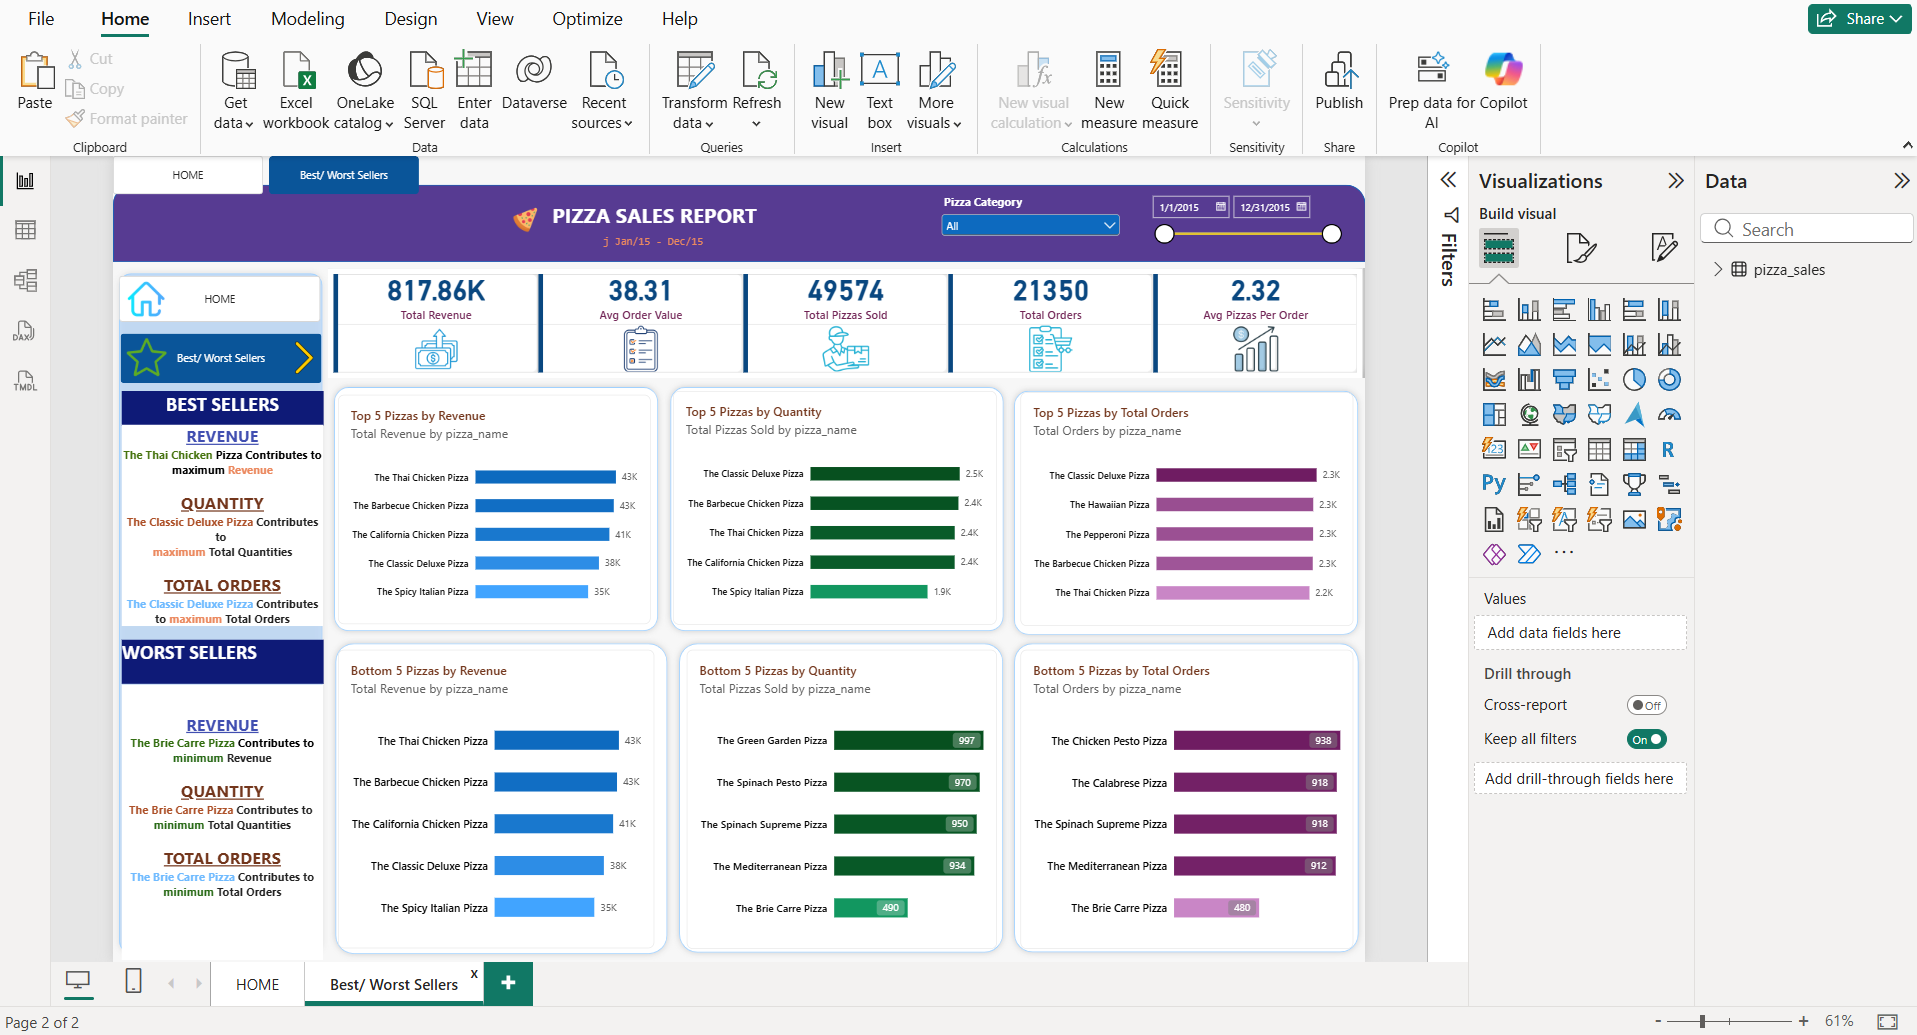

This screenshot's page, from the dashboard's own definition file:
{"tool":"powerbi","page":{"name":"Best/ Worst Sellers","canvas":[1636,1054],"ordinal":1},"visuals":[{"type":"shape","box":[0,145.1,282,905.2],"z":0},{"type":"cardVisual","fields":{"Data":["pizza_sales.Total Revenue","pizza_sales.Avg Order Value","pizza_sales.Total Pizzas Sold","pizza_sales.Total Orders","pizza_sales.Avg Pizzas Per Order"]},"box":[280.8,146.5,1357,143],"z":1000},{"type":"shape","box":[0,38.4,1637.8,101.2],"z":2000},{"type":"textbox","box":[570,59.3,275.4,47.1],"z":3000},{"type":"textbox","box":[1610,140,300,300],"z":4000},{"type":"textbox","box":[641.5,101.1,132.9,40],"z":5000},{"type":"image","box":[509,66.2,61.4,32.9],"z":6000},{"type":"shape","box":[280.8,294.8,439.5,334.9],"z":7000},{"type":"textbox","box":[11.5,306.7,263.8,44.5],"z":8000},{"type":"textbox","box":[11.4,351.4,263.2,263.2],"z":9000},{"type":"textbox","box":[11.4,691.4,263.2,359.6],"z":10000},{"type":"textbox","box":[11.4,632.6,263.8,57.7],"z":11000},{"type":"slicer","fields":{"Values":["pizza_sales.pizza_category"]},"box":[1078.9,49,242.3,80.2],"z":12000},{"type":"slicer","fields":{"Values":["pizza_sales.order_date"]},"box":[1351.8,47.4,258.3,80.1],"z":13000},{"type":"shape","box":[720.4,294.8,451.7,334.9],"z":14000},{"type":"shape","box":[1171.1,298.5,465.7,334.9],"z":15000},{"type":"shape","box":[732.6,629.7,439.5,420.4],"z":16000},{"type":"shape","box":[1170.6,630.1,466.5,420],"z":17000},{"type":"shape","box":[282.6,629.7,450,422.1],"z":18000},{"type":"barChart","title":"Top 5 Pizzas by Revenue","fields":{"Category":["pizza_sales.pizza_name"],"Y":["pizza_sales.Total Revenue"]},"box":[294.6,312.2,408.7,299.9],"z":19000},{"type":"barChart","title":"Bottom 5 Pizzas by Revenue","fields":{"Category":["pizza_sales.pizza_name"],"Y":["pizza_sales.Total Revenue"]},"box":[294.2,645.7,413.6,390.7],"z":20000},{"type":"barChart","title":"Top 5 Pizzas by Quantity","fields":{"Category":["pizza_sales.pizza_name"],"Y":["pizza_sales.Total Pizzas Sold"]},"box":[732.1,307.3,423.1,305.5],"z":21000},{"type":"barChart","title":"Bottom 5 Pizzas by Quantity","fields":{"Category":["pizza_sales.pizza_name"],"Y":["pizza_sales.Total Pizzas Sold"]},"box":[749.7,646.1,405.6,391.5],"z":22000},{"type":"barChart","title":"Top 5 Pizzas by Total Orders","fields":{"Category":["pizza_sales.pizza_name"],"Y":["pizza_sales.Total Orders"]},"box":[1186.9,309,435.4,305.5],"z":23000},{"type":"barChart","title":"Bottom 5 Pizzas by Total Orders","fields":{"Category":["pizza_sales.pizza_name"],"Y":["pizza_sales.Total Orders"]},"box":[1186.9,646.1,435.4,391.5],"z":24000},{"type":"pageNavigator","box":[0,0,400,50],"z":28000},{"type":"pageNavigator","box":[8.2,156.9,263.2,60.5],"z":28001},{"type":"pageNavigator","box":[9.8,232.1,263.2,65.4],"z":28002},{"type":"image","box":[8.2,163.5,70.3,47.4],"z":28007},{"type":"image","box":[228.8,237,42.5,53.9],"z":28008},{"type":"image","box":[18,237,52.3,52.3],"z":28009}]}

Visuals, with their boxes on the page's 1636x1054 design canvas (x1, y1, x2, y2). These are canvas units, not pixel positions in the 1917x1035 screenshot, which may show the page scaled, cropped or inside an application window:
shape: <region>0, 145, 282, 1050</region>
cardVisual - pizza_sales.Total Revenue x pizza_sales.Avg Order Value: <region>281, 146, 1638, 290</region>
shape: <region>0, 38, 1638, 140</region>
textbox: <region>570, 59, 845, 106</region>
textbox: <region>1610, 140, 1910, 440</region>
textbox: <region>642, 101, 774, 141</region>
image: <region>509, 66, 570, 99</region>
shape: <region>281, 295, 720, 630</region>
textbox: <region>12, 307, 275, 351</region>
textbox: <region>11, 351, 275, 615</region>
textbox: <region>11, 691, 275, 1051</region>
textbox: <region>11, 633, 275, 690</region>
slicer - pizza_sales.pizza_category: <region>1079, 49, 1321, 129</region>
slicer - pizza_sales.order_date: <region>1352, 47, 1610, 128</region>
shape: <region>720, 295, 1172, 630</region>
shape: <region>1171, 298, 1637, 633</region>
shape: <region>733, 630, 1172, 1050</region>
shape: <region>1171, 630, 1637, 1050</region>
shape: <region>283, 630, 733, 1052</region>
"Top 5 Pizzas by Revenue" barChart: <region>295, 312, 703, 612</region>
"Bottom 5 Pizzas by Revenue" barChart: <region>294, 646, 708, 1036</region>
"Top 5 Pizzas by Quantity" barChart: <region>732, 307, 1155, 613</region>
"Bottom 5 Pizzas by Quantity" barChart: <region>750, 646, 1155, 1038</region>
"Top 5 Pizzas by Total Orders" barChart: <region>1187, 309, 1622, 614</region>
"Bottom 5 Pizzas by Total Orders" barChart: <region>1187, 646, 1622, 1038</region>
pageNavigator: <region>0, 0, 400, 50</region>
pageNavigator: <region>8, 157, 271, 217</region>
pageNavigator: <region>10, 232, 273, 298</region>
image: <region>8, 164, 78, 211</region>
image: <region>229, 237, 271, 291</region>
image: <region>18, 237, 70, 289</region>
